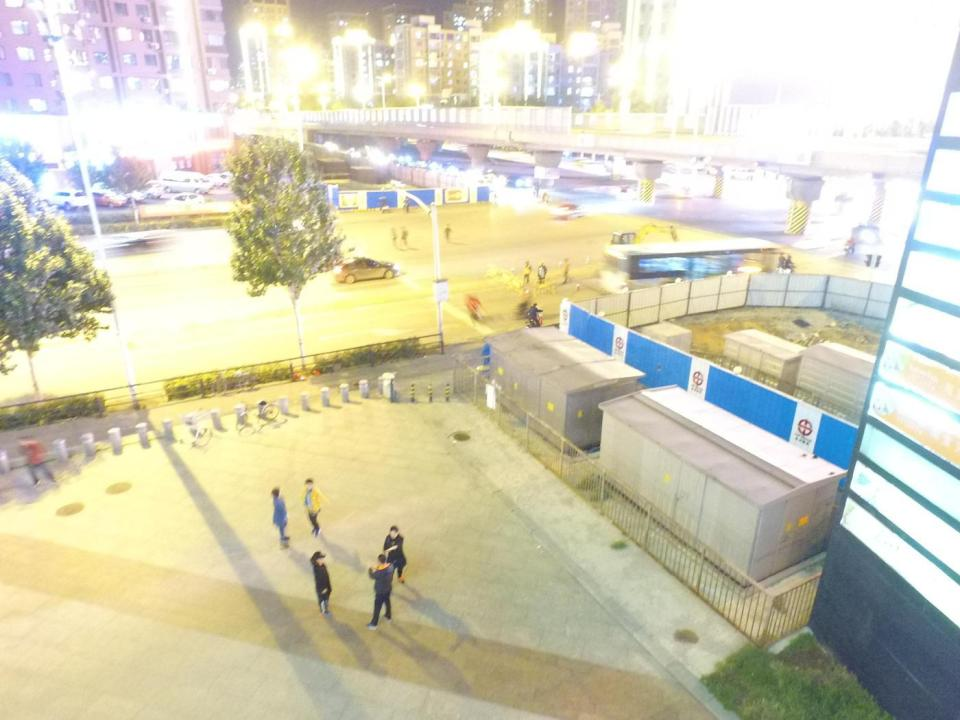bus: (601, 238, 781, 294)
car: (334, 256, 398, 284), (97, 233, 167, 257), (40, 188, 88, 210), (84, 188, 127, 207), (165, 192, 204, 208), (550, 203, 586, 219), (114, 189, 144, 203), (506, 172, 532, 188), (207, 172, 234, 187), (140, 187, 160, 200), (679, 186, 692, 199)
van: (160, 170, 213, 195), (728, 167, 757, 179)
